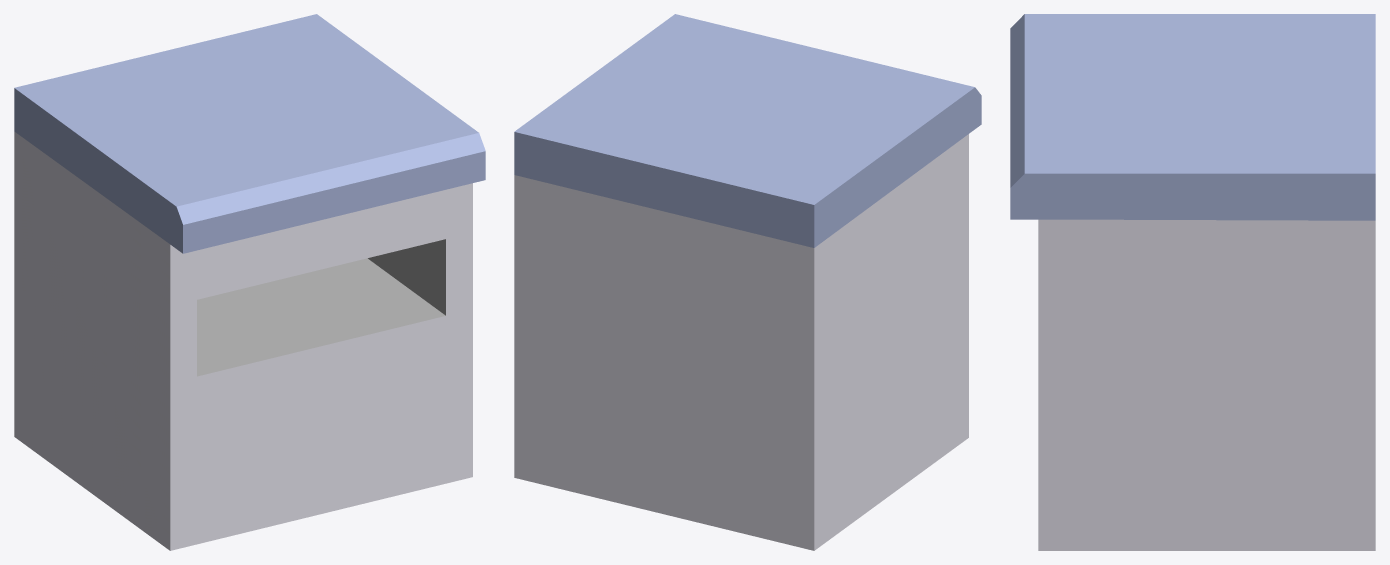
Rendered from cupboard_bottom_small.fbx.
3 renders of one model, left to right at view 1: azimuth 30°, elevation 25°; view 2: azimuth 150°, elevation 25°; view 3: azimuth 270°, elevation 25°, orthographic. The views are drawn at different scales.
Parts seen in each view (by area): view 1: Cube.068; view 2: Cube.068; view 3: Cube.068.
Boxes of the visible parts, x1,y1,x2,y2 form: Cube.068: [14, 14, 485, 550]; Cube.068: [514, 14, 981, 550]; Cube.068: [1010, 14, 1375, 550].
Bounding box in the file's own units: 200 × 220 × 193.
